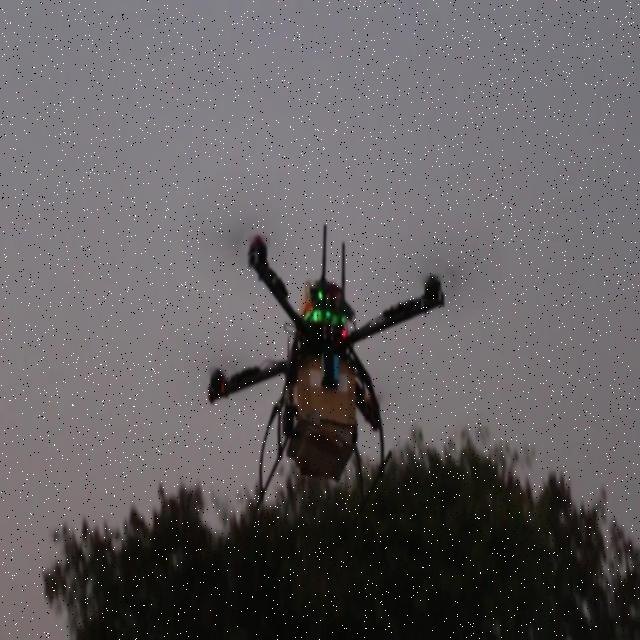UAV: (206, 222, 446, 528)
